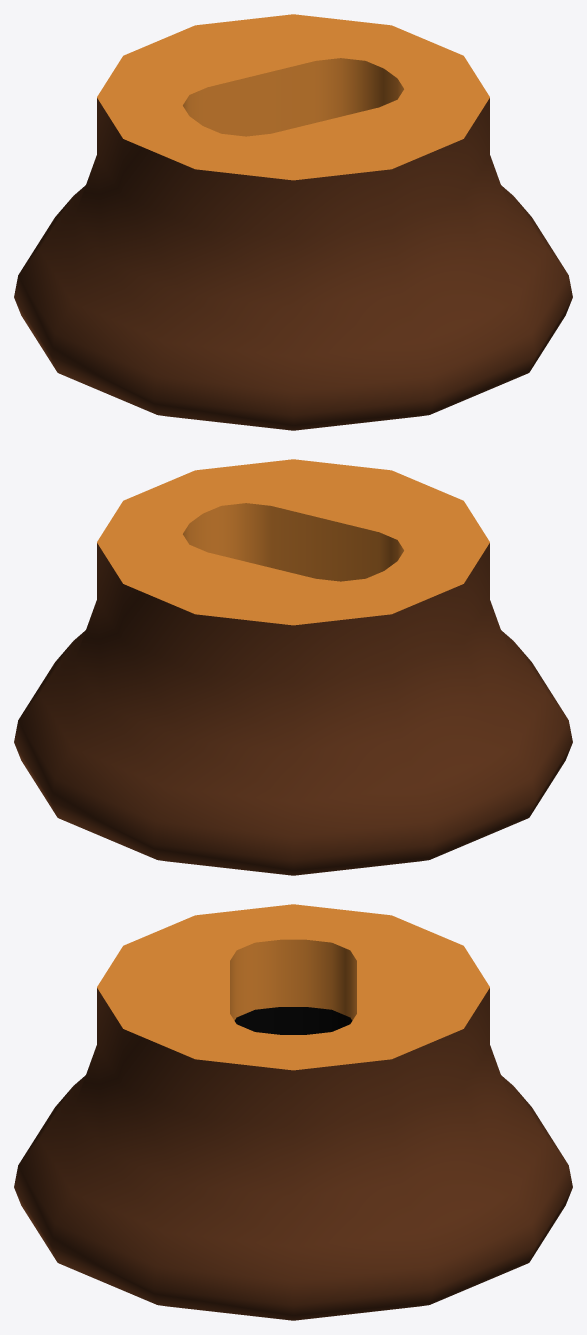
Rendered from Pipe_LeverEnd.fbx.
3 views of the same model, one above another, from view 1: azimuth 30°, elevation 25°; view 2: azimuth 150°, elevation 25°; view 3: azimuth 270°, elevation 25° (orthographic).
Visible parts, largest first — view 1: Pipe_LeverEnd; view 2: Pipe_LeverEnd; view 3: Pipe_LeverEnd.
Part boxes in pixels (<box>): Pipe_LeverEnd: <box>14,14,572,430</box>; Pipe_LeverEnd: <box>14,459,572,875</box>; Pipe_LeverEnd: <box>14,904,572,1320</box>.
Size of the model in its own units: 71.06 by 31.75 by 71.06.
